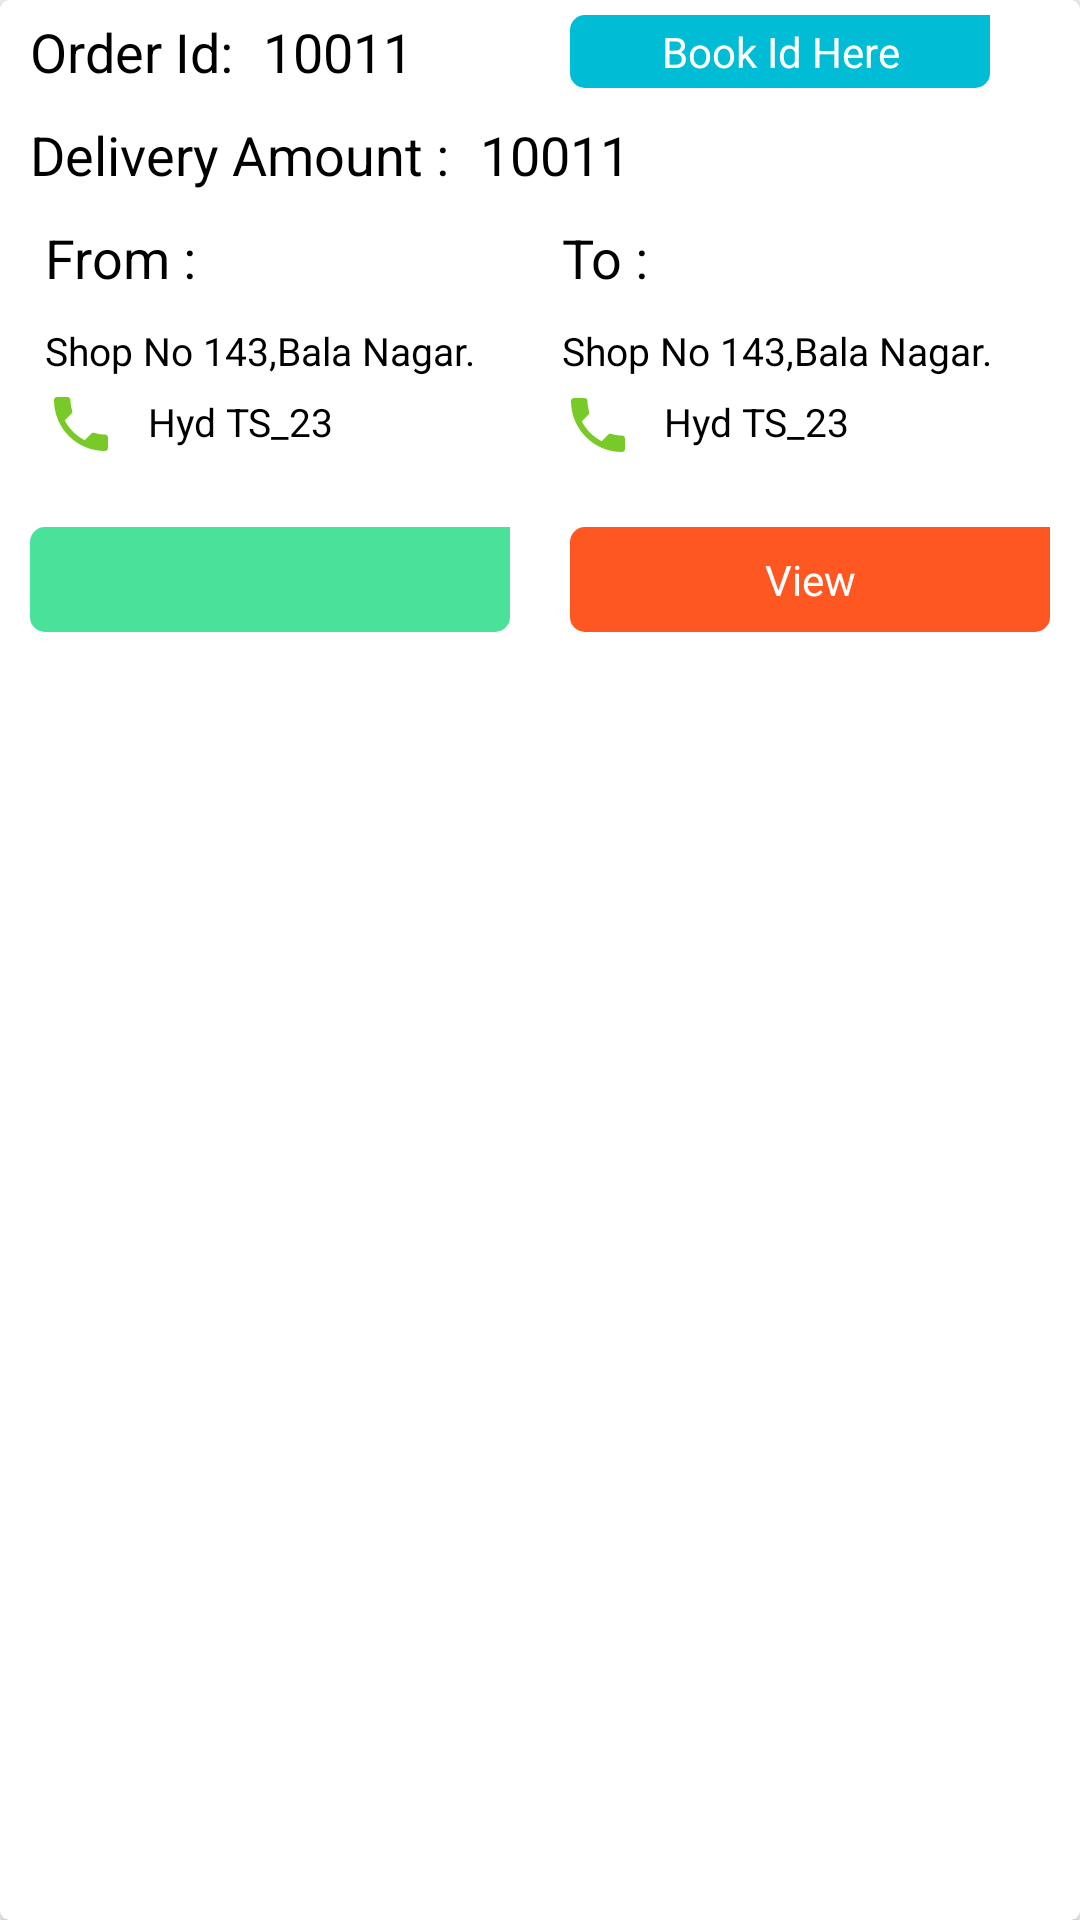

Named icons in this screenshot (1080 x 1920) and their bounding boxes, (x1, y1, x2, y2):
call order accept: (54, 397, 108, 451), (571, 398, 625, 452)
